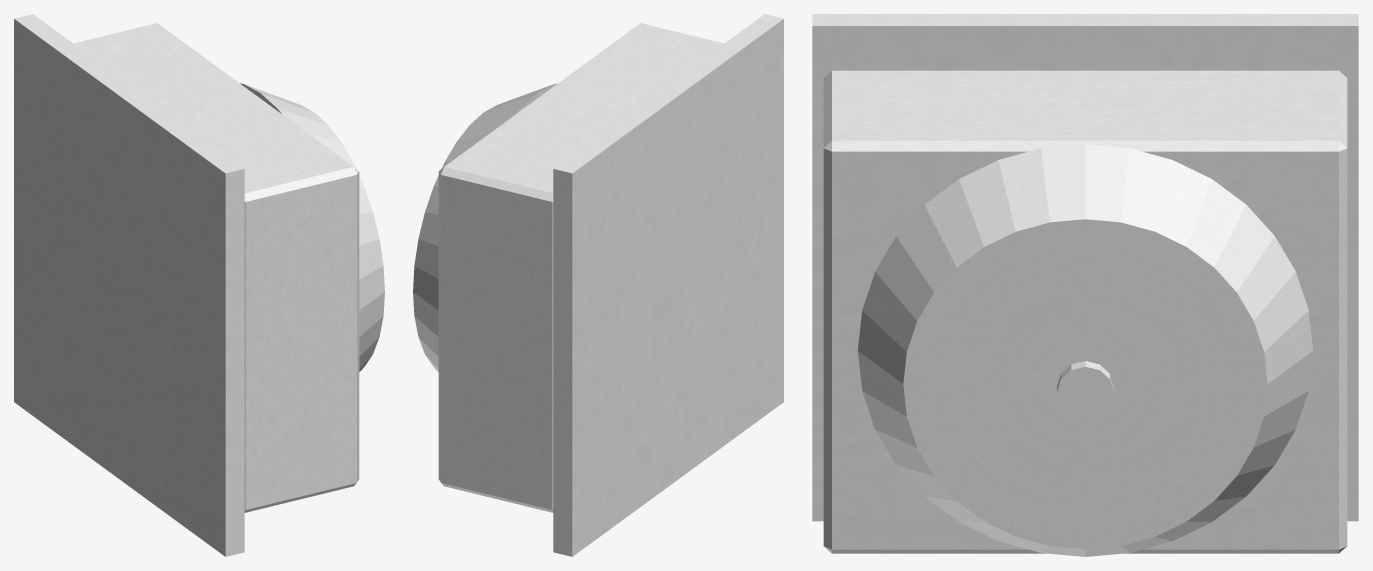
File: firealarm_bell.obj
3 views of the same model, side by side, from view 1: azimuth 30°, elevation 25°; view 2: azimuth 150°, elevation 25°; view 3: azimuth 270°, elevation 25° (orthographic). The views are drawn at different scales.
Visible parts, largest first — view 1: Base, Case; view 2: Base, Case; view 3: Case, Base.
Boxes of the visible parts, left/top/right/bottom form: Base: left=14, top=14, right=244, bottom=556; Case: left=73, top=23, right=384, bottom=512; Base: left=553, top=14, right=783, bottom=556; Case: left=413, top=23, right=724, bottom=512; Case: left=823, top=70, right=1347, bottom=556; Base: left=812, top=14, right=1358, bottom=521.
Bounding box in the file's own units: 0.272 × 0.48 × 0.48.
